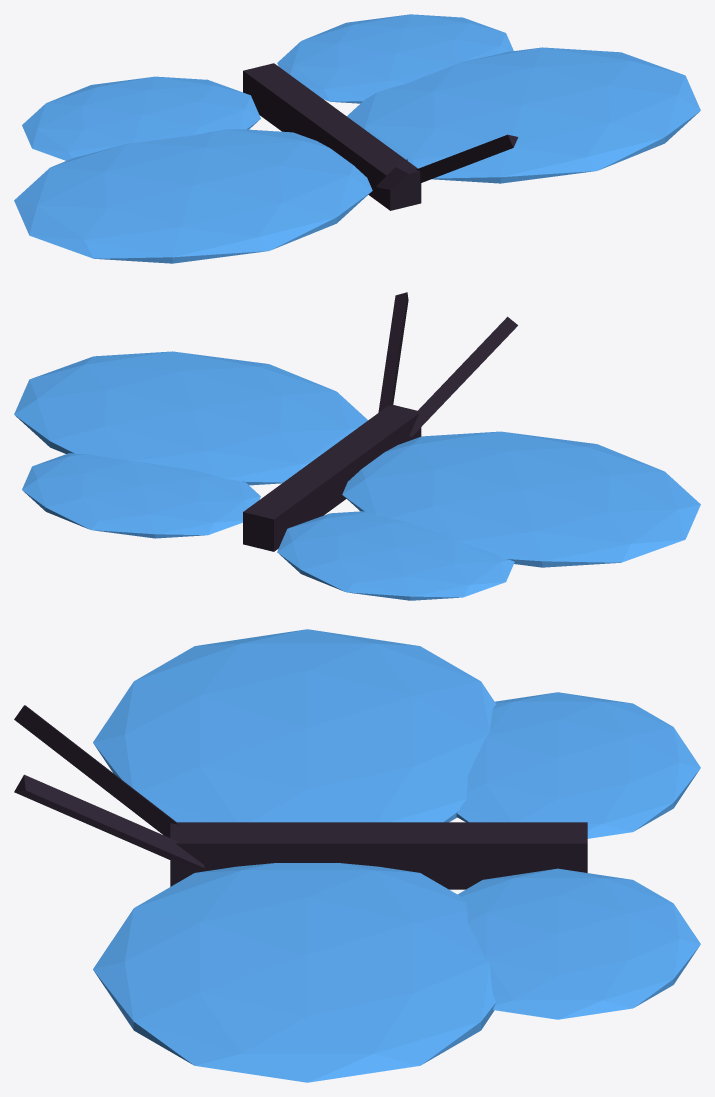
Rendered from butterfly_b.glb.
3 views of the same model, one above another, from view 1: azimuth 30°, elevation 25°; view 2: azimuth 150°, elevation 25°; view 3: azimuth 270°, elevation 25° (orthographic). The views are drawn at different scales.
Visible parts, largest first — view 1: butterfly_b.wingR, butterfly_b.wingL, butterfly_b; view 2: butterfly_b.wingR, butterfly_b.wingL, butterfly_b; view 3: butterfly_b.wingL, butterfly_b.wingR, butterfly_b.
Part boxes in pixels (x1,y1,x2,y2): butterfly_b.wingR: (14, 76, 372, 263); butterfly_b.wingL: (277, 14, 700, 183); butterfly_b: (243, 63, 518, 210); butterfly_b.wingR: (277, 431, 700, 600); butterfly_b.wingL: (14, 351, 367, 538); butterfly_b: (243, 292, 517, 551); butterfly_b.wingL: (93, 863, 700, 1082); butterfly_b.wingR: (93, 629, 700, 838); butterfly_b: (14, 705, 587, 889).
Size of the model in its own units: 0.18 by 0.0257 by 0.1152.
